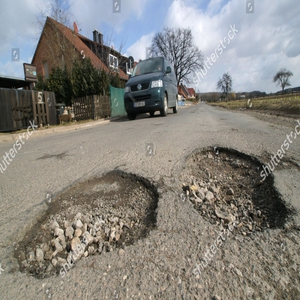pothole: (11, 167, 161, 280), (178, 144, 292, 234)
